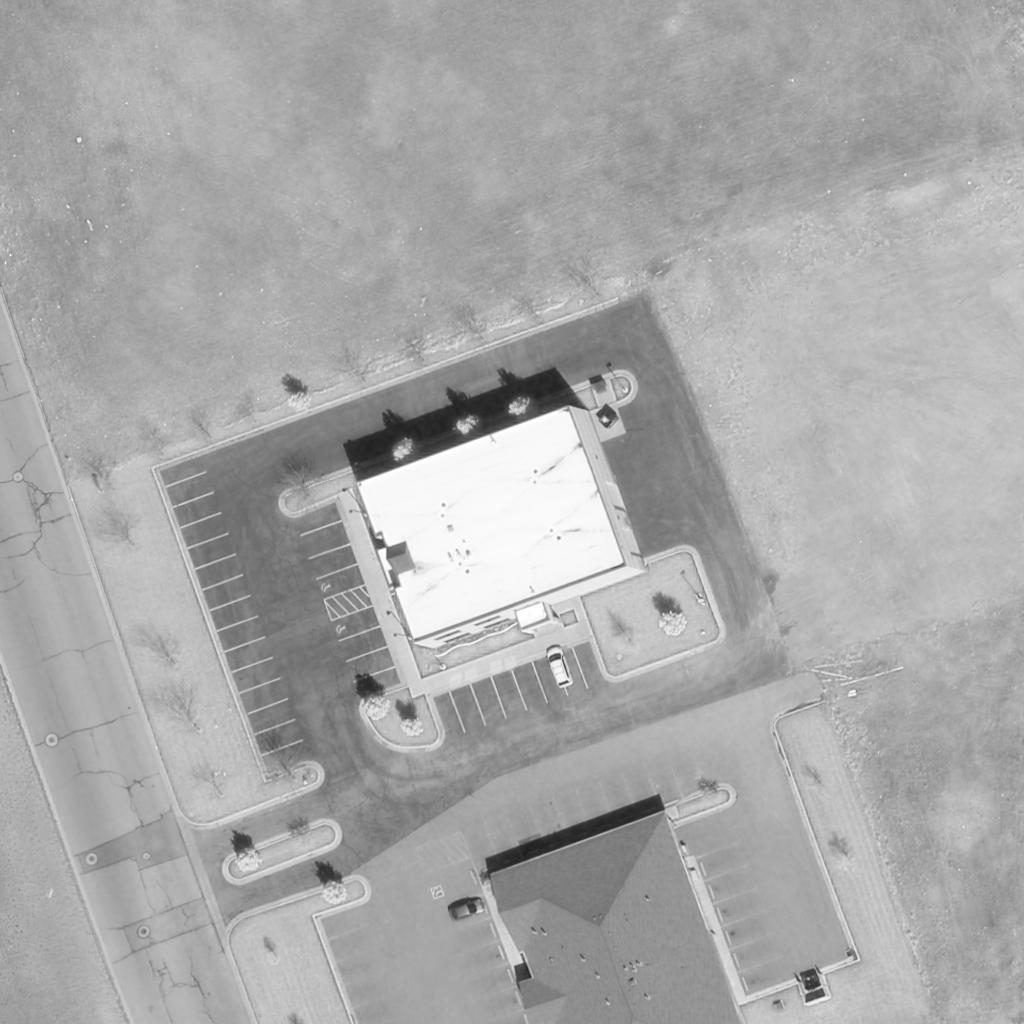vehicle: (543, 645, 575, 689), (446, 897, 488, 923)
